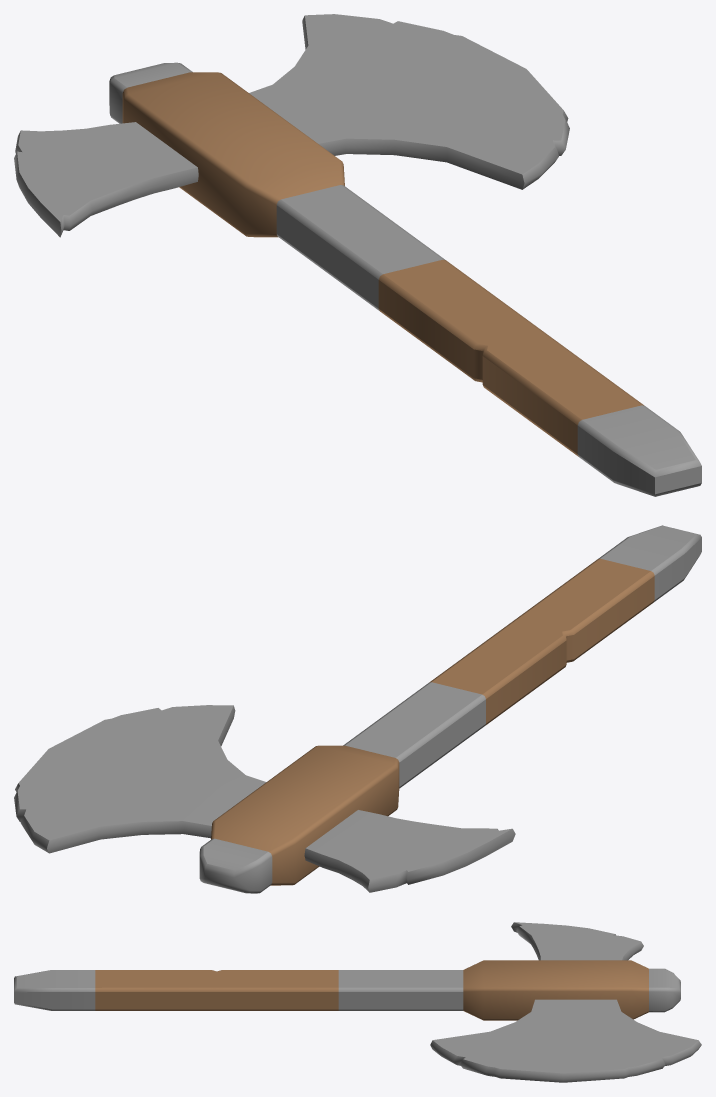
Rendered from Worn_Hatchet.fbx.
The picture shows the model from 3 angles, top to bottom: view 1: azimuth 30°, elevation 25°; view 2: azimuth 150°, elevation 25°; view 3: azimuth 270°, elevation 25°; orthographic projection. The views are drawn at different scales.
Parts seen in each view (by area): view 1: Worn_Hatchet; view 2: Worn_Hatchet; view 3: Worn_Hatchet.
Boxes of the visible parts, x1,y1,x2,y2 form: Worn_Hatchet: (14, 14, 701, 496); Worn_Hatchet: (14, 525, 701, 893); Worn_Hatchet: (14, 922, 701, 1082).
Size of the model in its own units: 58.37 by 5.92 by 111.
